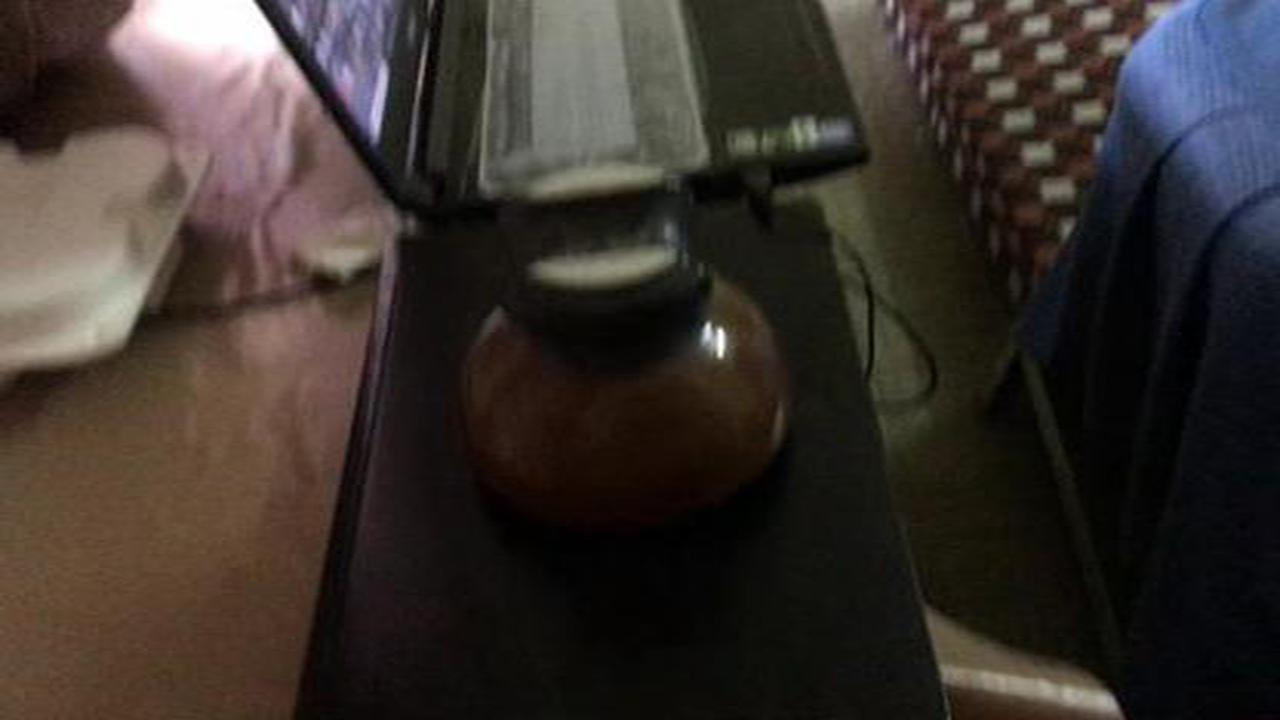insulator_pin: (441, 151, 810, 561)
